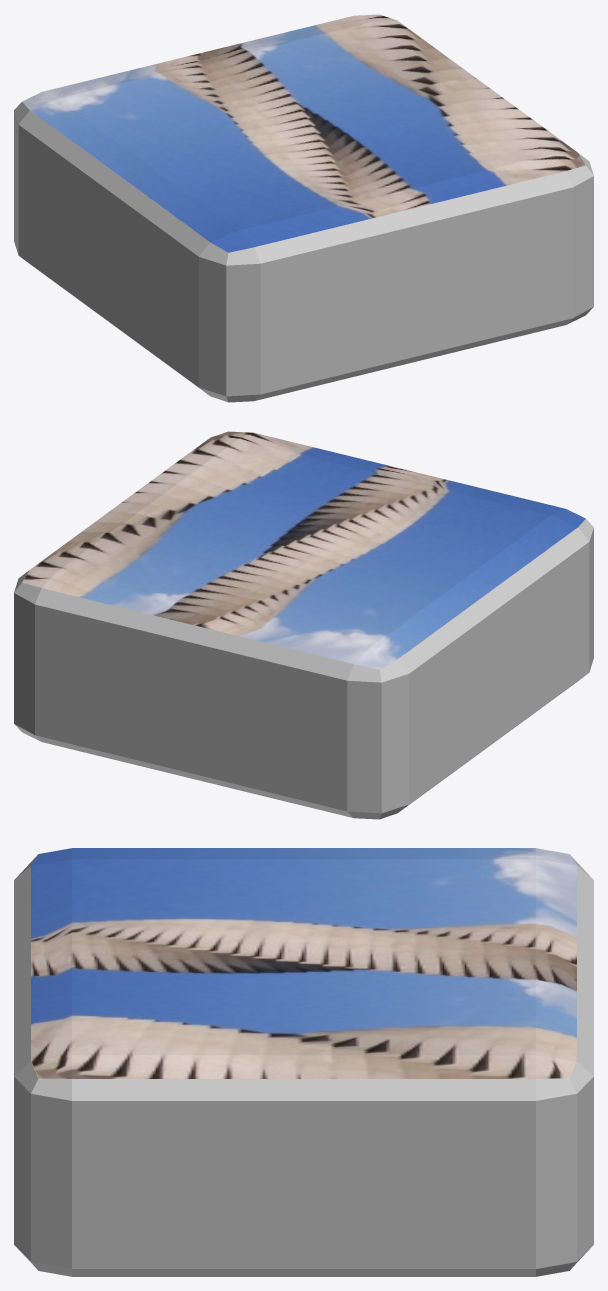
File: peça7.obj
3 views of the same model, one above another, from view 1: azimuth 30°, elevation 25°; view 2: azimuth 150°, elevation 25°; view 3: azimuth 270°, elevation 25° (orthographic). The views are drawn at different scales.
Parts seen in each view (by area): view 1: Cubo.006; view 2: Cubo.006; view 3: Cubo.006.
Part boxes in pixels (x1,y1,x2,y2): Cubo.006: (14, 14, 593, 402); Cubo.006: (14, 431, 593, 819); Cubo.006: (14, 848, 593, 1276).
Size of the model in its own units: 0.5 by 0.2 by 0.5.
